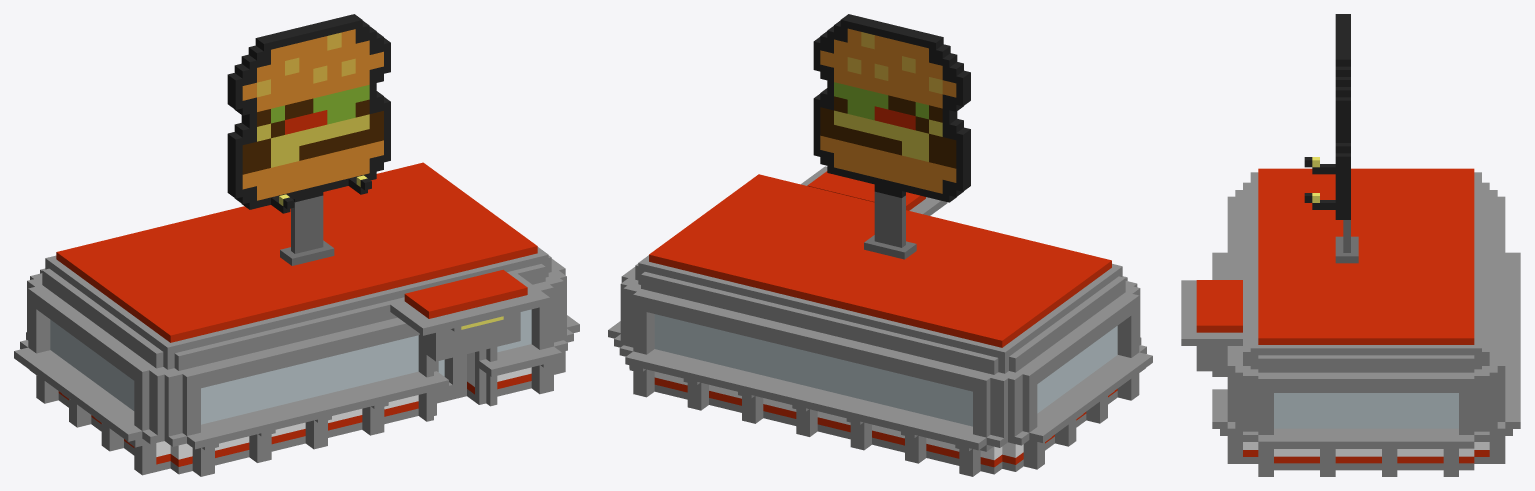
File: burgers2.obj
3 renders of one model, left to right at view 1: azimuth 30°, elevation 25°; view 2: azimuth 150°, elevation 25°; view 3: azimuth 270°, elevation 25°, orthographic. The views are drawn at different scales.
Visible parts, largest first — view 1: burgers2; view 2: burgers2; view 3: burgers2.
Boxes of the visible parts, x1,y1,x2,y2 form: burgers2: (14,14,579,476); burgers2: (608,14,1152,476); burgers2: (1181,14,1520,476).
Size of the model in its own units: 64 by 49 by 44.
Materials: 1 (1 with a texture image).
